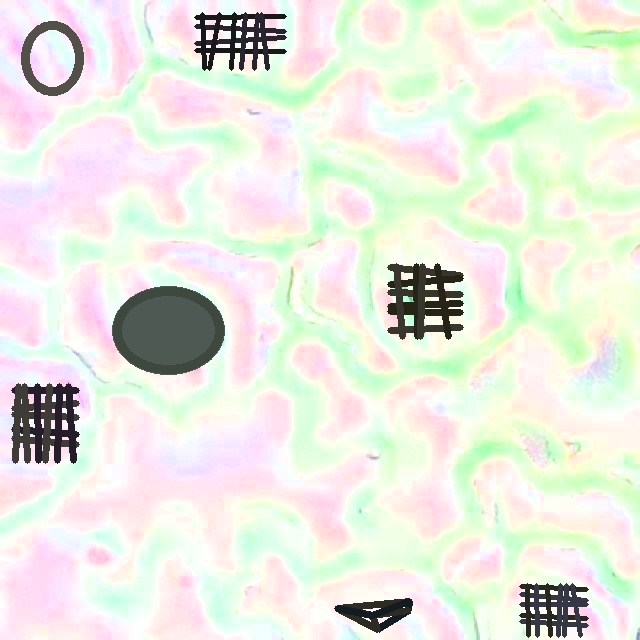close: (112, 286, 224, 375), (11, 384, 79, 462), (195, 13, 285, 69), (519, 583, 588, 637), (334, 598, 411, 632)
open: (387, 264, 463, 339), (21, 20, 83, 96)
